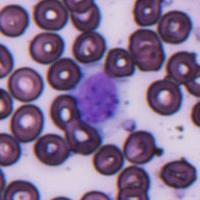L: (77, 71, 121, 125)
